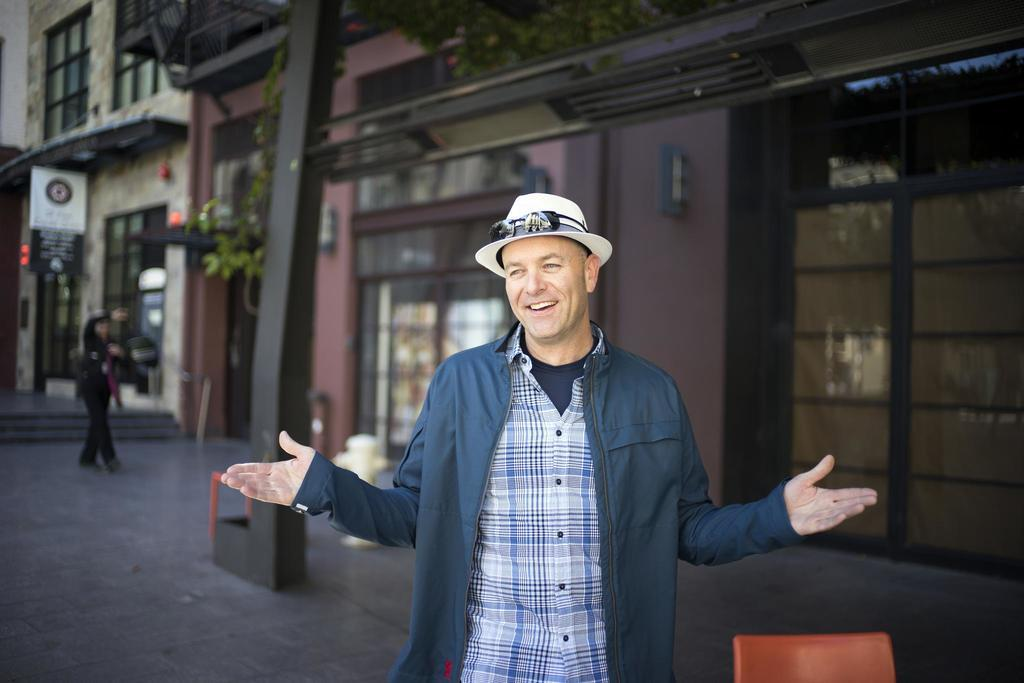Hat: (480, 192, 614, 288)
